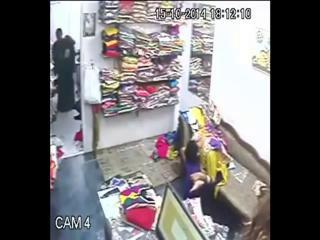Normal: (52, 28, 76, 113)
